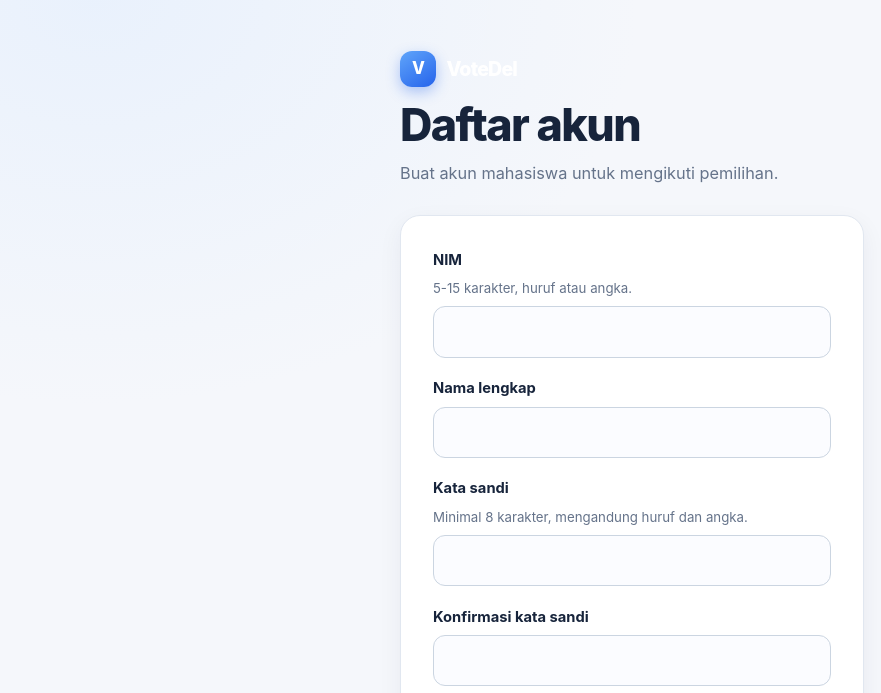
Test: halaman autentikasi › register gagal menampilkan pesan dari server
Type "11S24001" into the field labelled "NIM" at (632, 332), box left=433, top=306, right=831, bottom=358
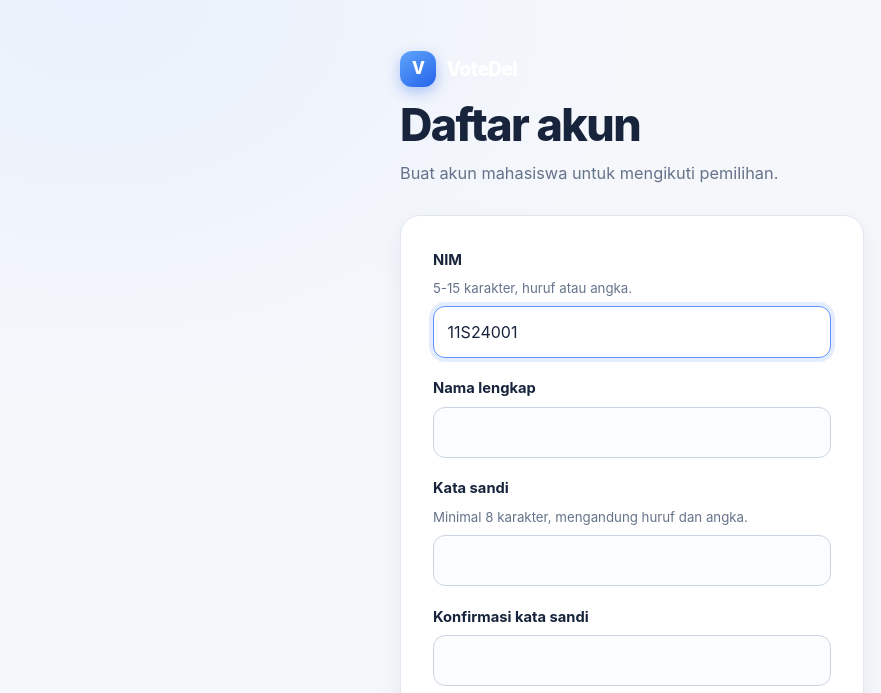
Type "Mahasiswa Uji" into the field labelled "Nama lengkap" at (632, 432), box left=433, top=406, right=831, bottom=458
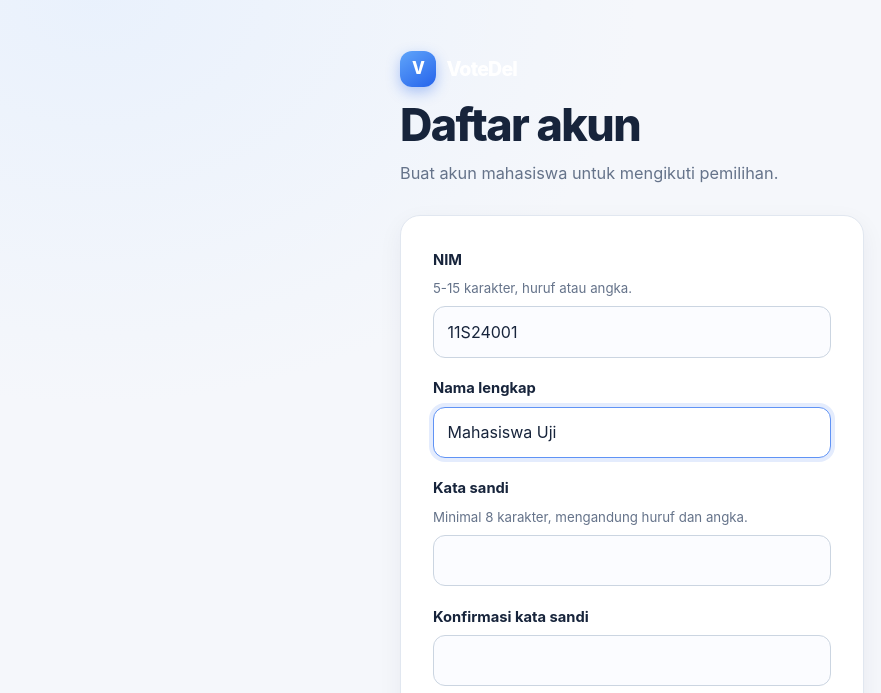
Type "rahasia123" into the password field labelled "Kata sandi" at (632, 560), box left=433, top=535, right=831, bottom=586
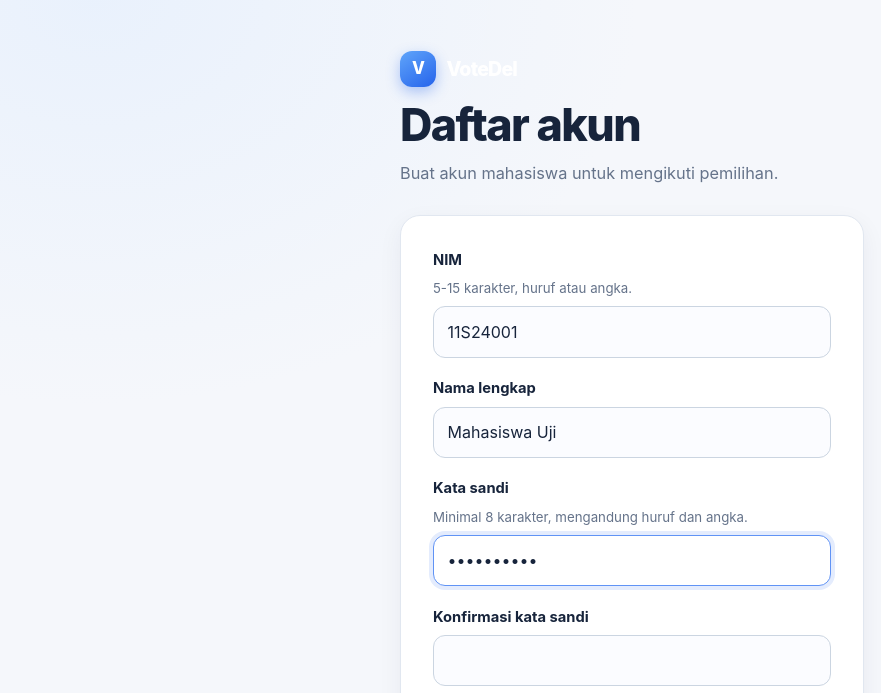
Type "rahasia123" into the password field labelled "Konfirmasi kata sandi" at (632, 661), box left=433, top=635, right=831, bottom=686
(page scrolled)
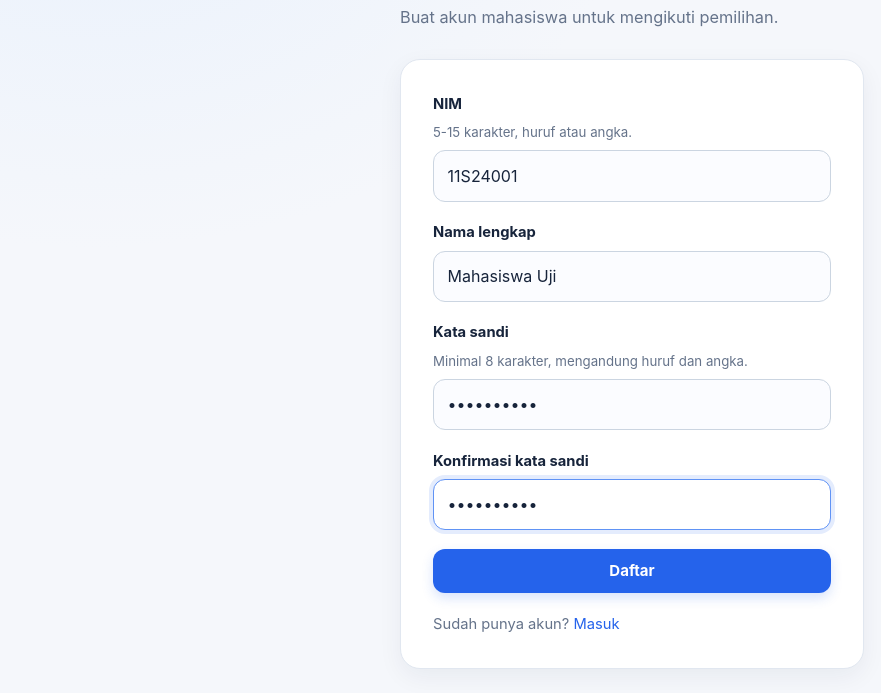
Click the button "Daftar" at (632, 571), box left=433, top=549, right=831, bottom=594
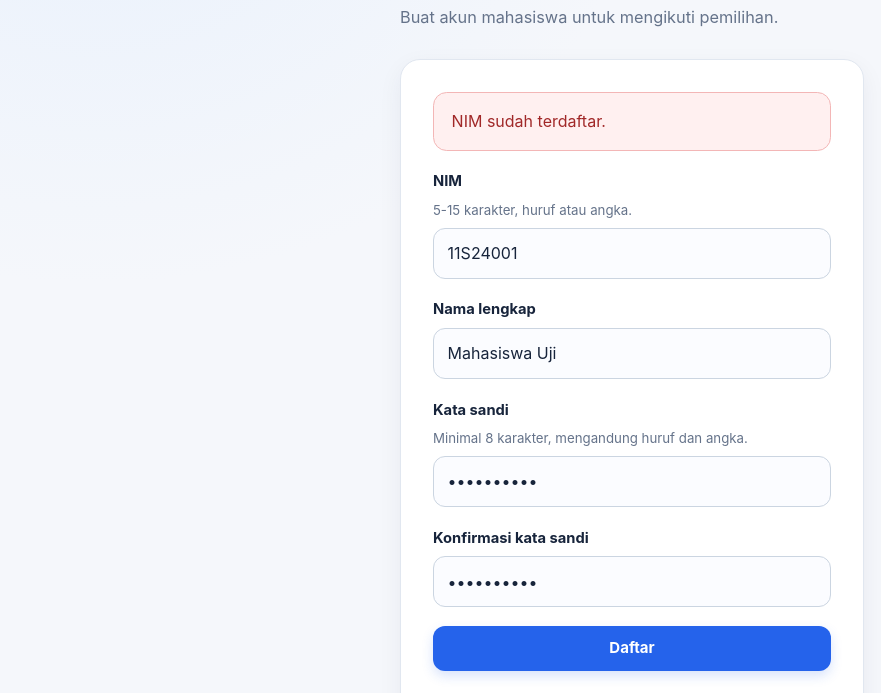
Now the message reads "NIM sudah terdaftar.", box left=452, top=111, right=606, bottom=131
